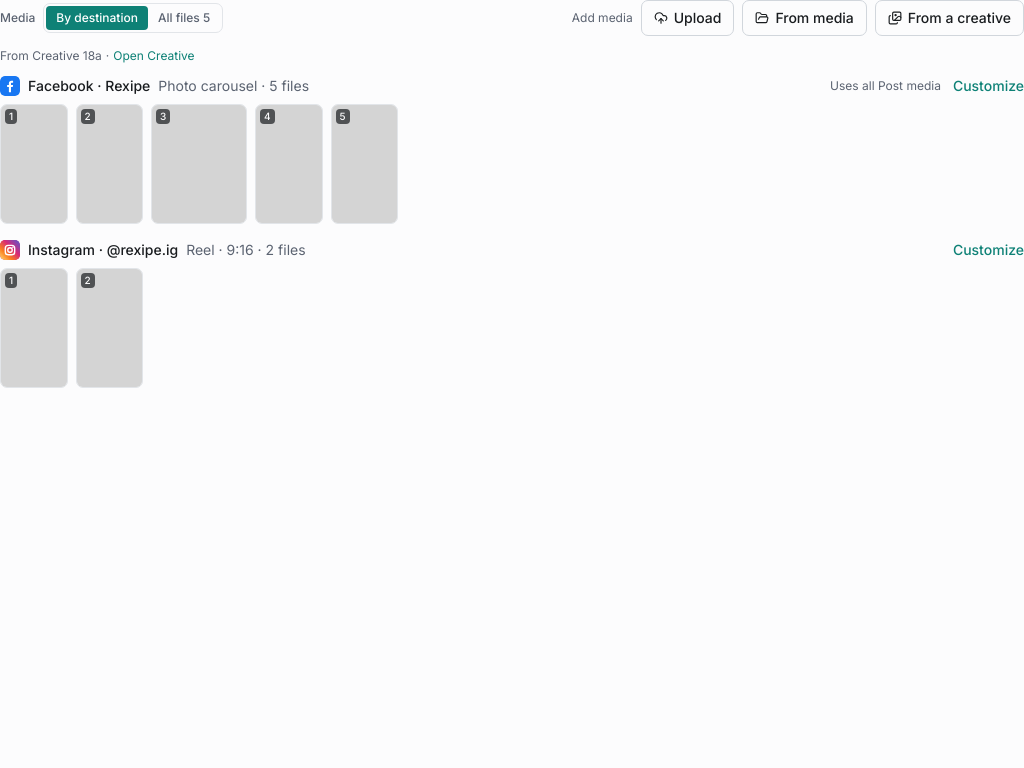
Test: PostMediaSection › offers Customize and opens the destination editor
The image size is (1024, 768).
Click the button "Customize" next to "Uses all Post media".
click(988, 86)  # box [953,76,1023,96]
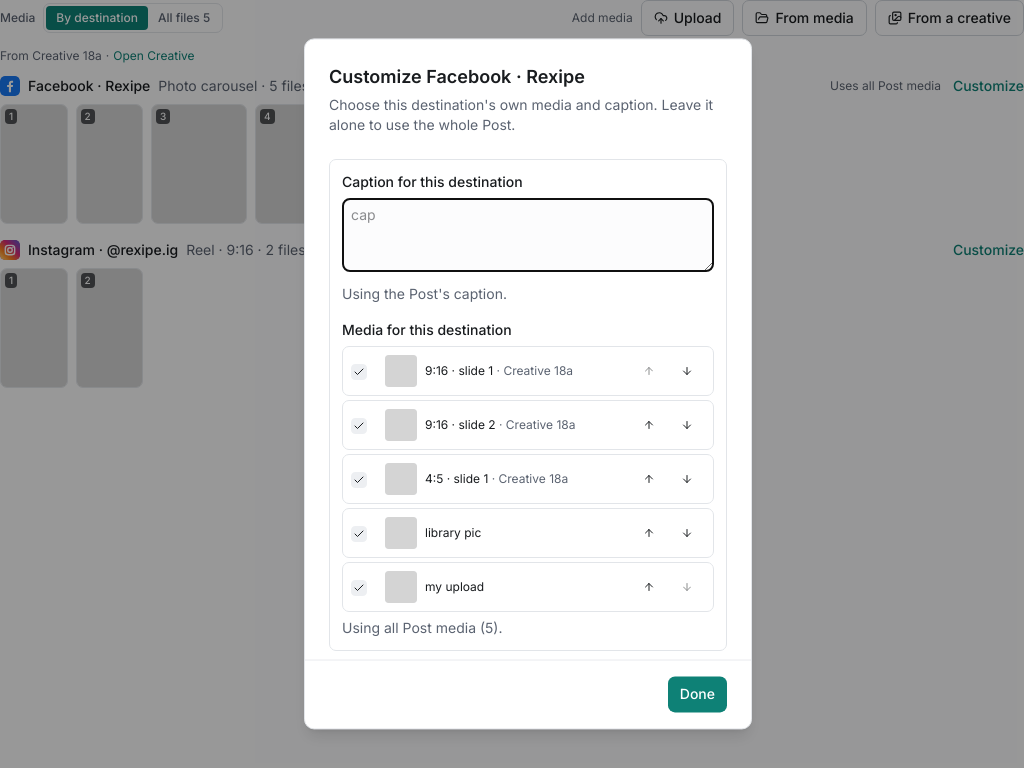
Expected: the heading "Customize Facebook · Rexipe" is shown, [329,66,585,87]
